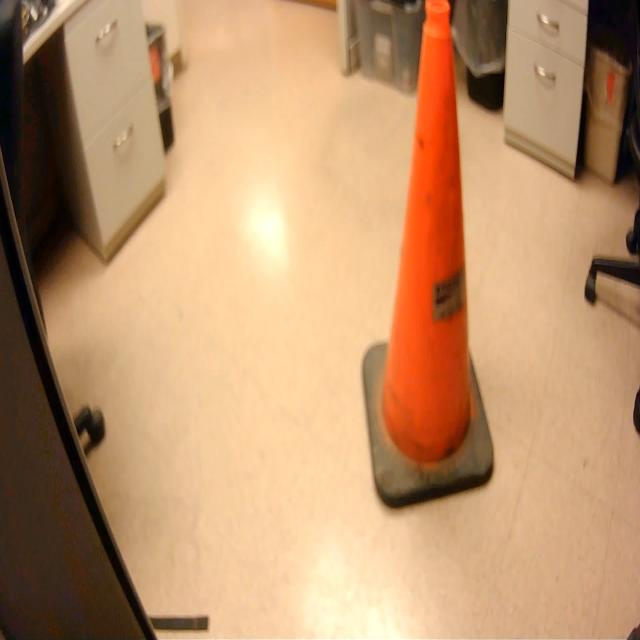traffic cone: (355, 1, 499, 513)
